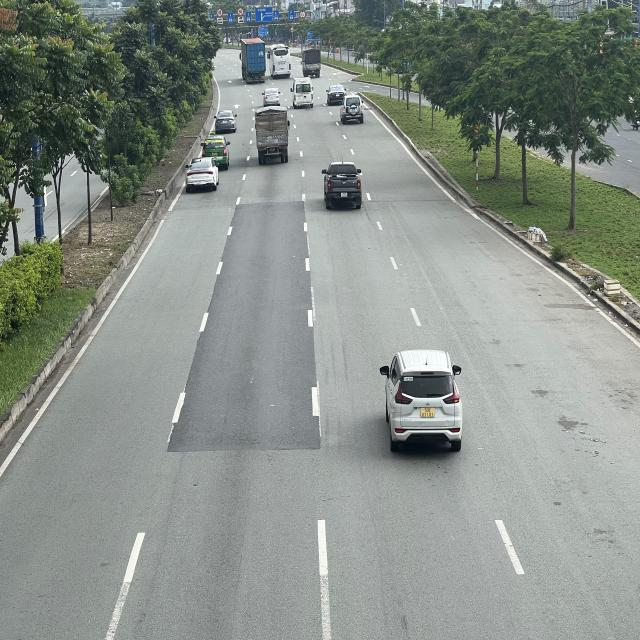car: (380, 347, 464, 453), (322, 162, 364, 206), (184, 158, 219, 188), (202, 134, 231, 168), (340, 93, 366, 124), (214, 108, 238, 131), (327, 84, 345, 104), (263, 88, 281, 105)
coach: (268, 44, 290, 78)
container: (239, 38, 267, 85)
truck: (255, 105, 291, 165), (302, 48, 322, 77)
van: (291, 78, 315, 107)
